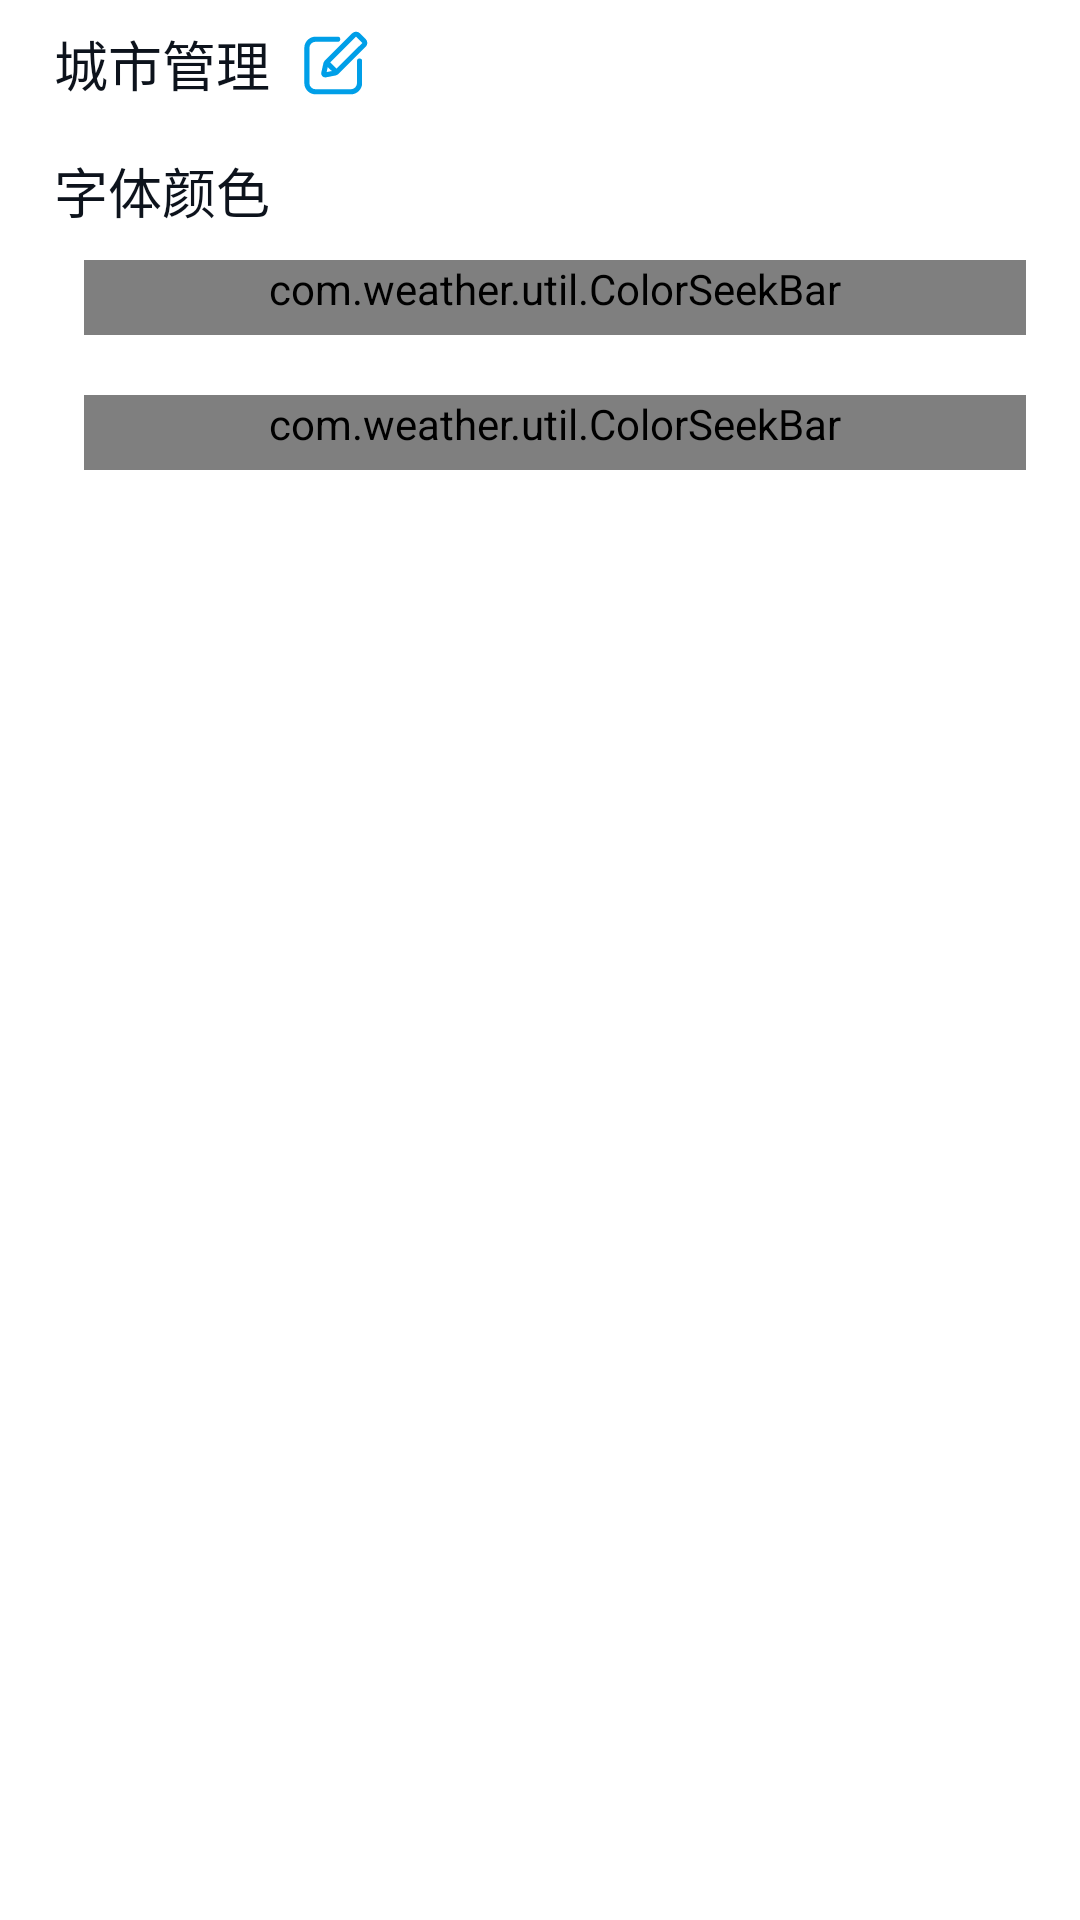

Where icons sit on this 1080×1920 app screen, as (x1, y1, x2, y2):
edit: (304, 31, 368, 95)
